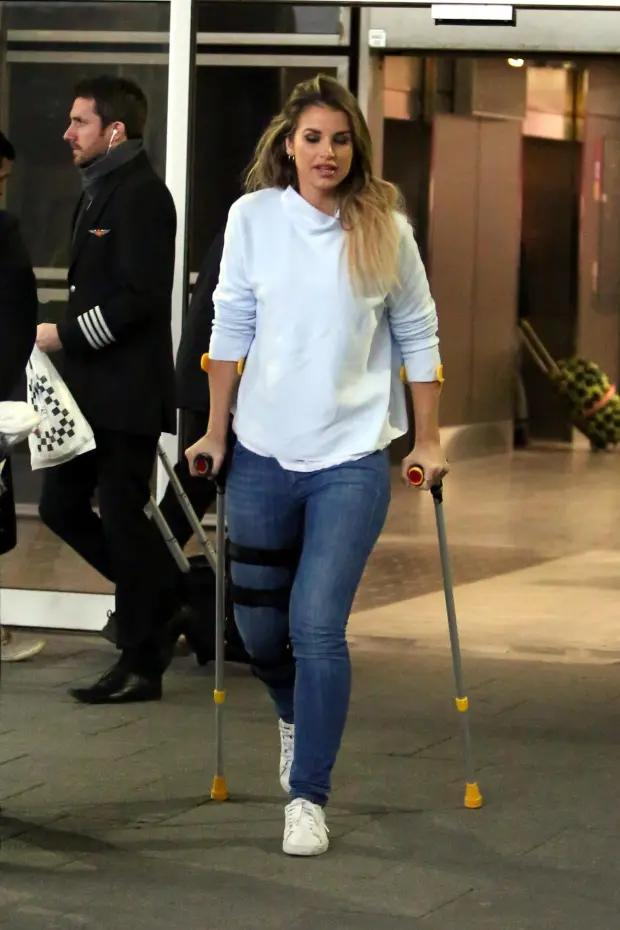crutches: (185, 75, 488, 858)
